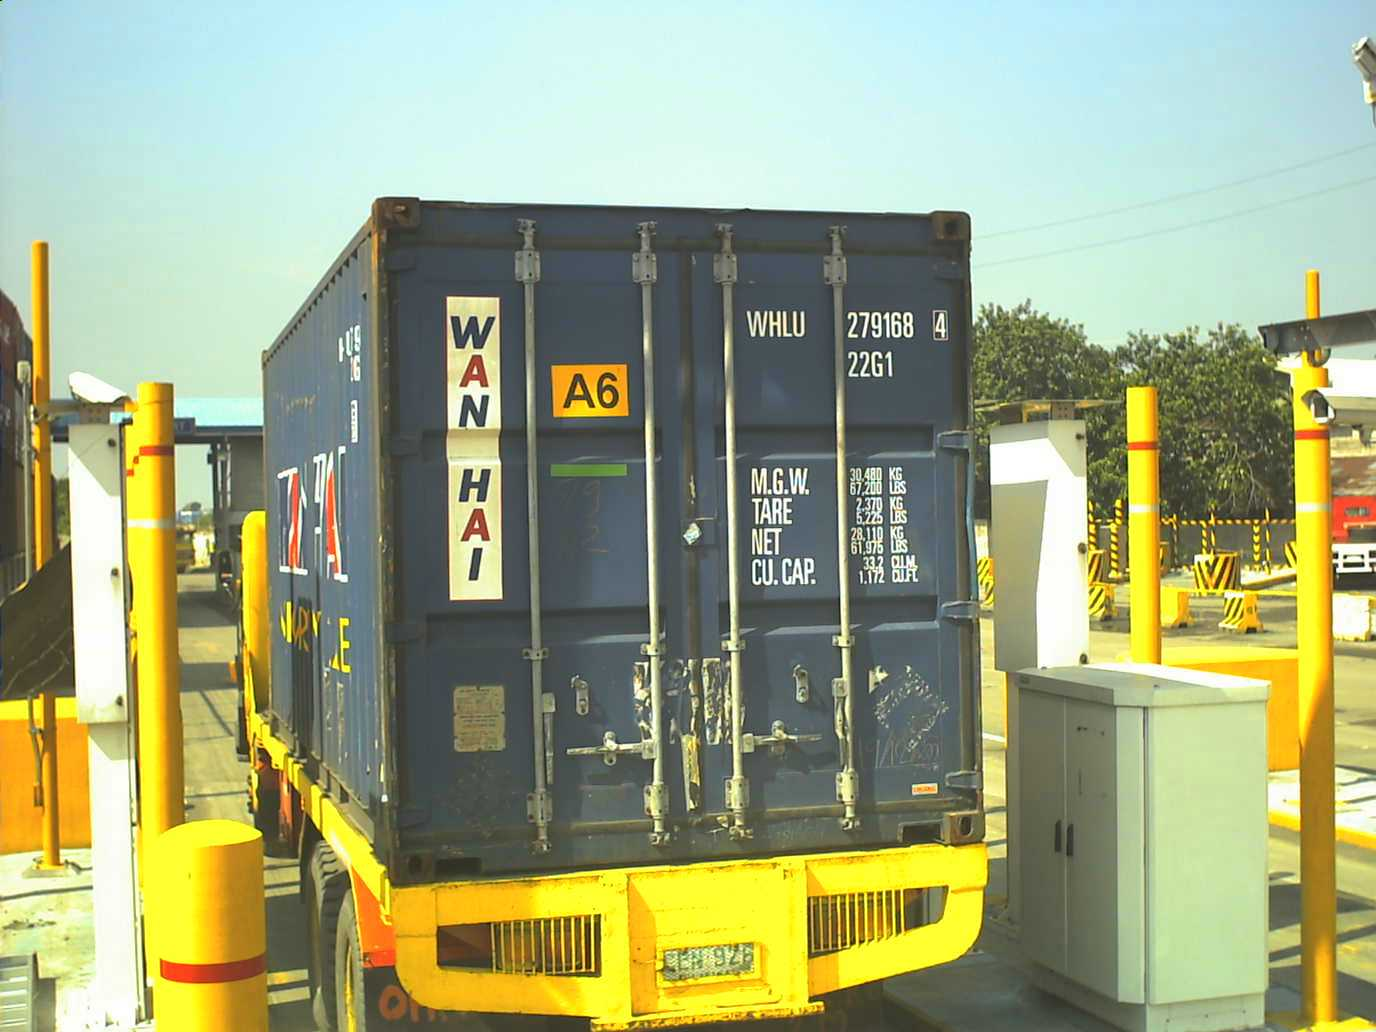container_door: (366, 196, 987, 878)
